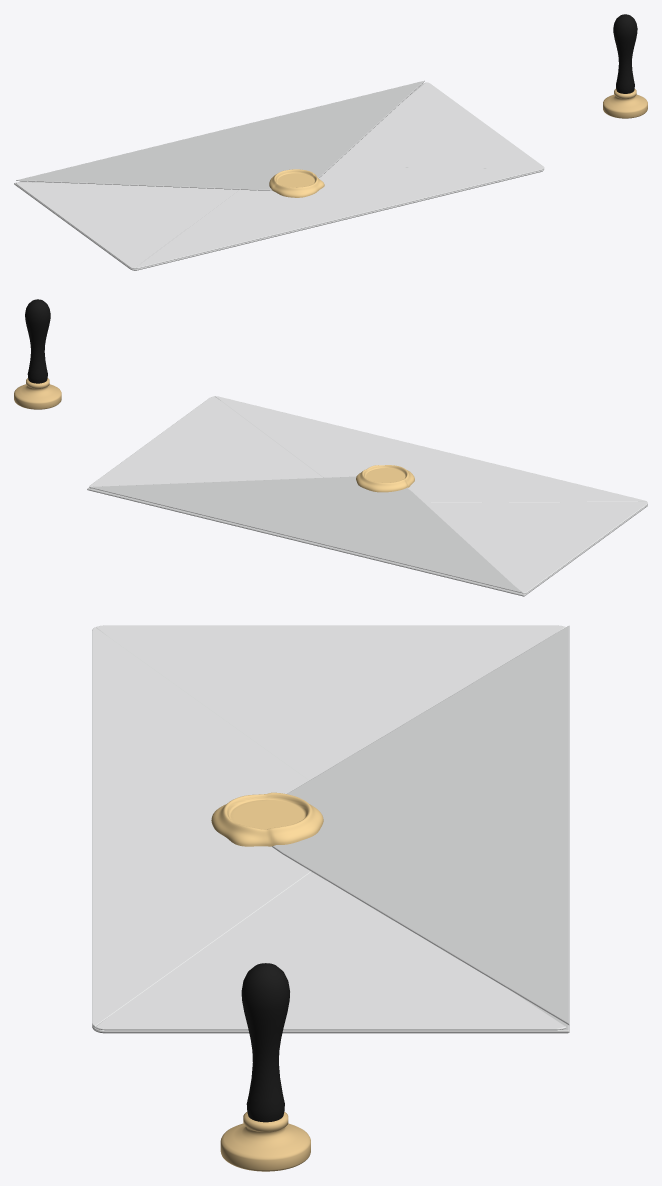
File: envelope.glb
3 views of the same model, one above another, from view 1: azimuth 30°, elevation 25°; view 2: azimuth 150°, elevation 25°; view 3: azimuth 270°, elevation 25° (orthographic). The views are drawn at different scales.
Visible parts, largest first — view 1: Envelope_Aba_Superior, Envelope_Aba_Inferior, Envelope_Aba_Esquerda, Envelope_Aba_Direita, Carimbo_Cabo, Envelope_Corpo, Selo_Cera, Carimbo_Cabeca; view 2: Envelope_Aba_Superior, Envelope_Aba_Inferior, Envelope_Aba_Esquerda, Envelope_Aba_Direita, Envelope_Corpo, Carimbo_Cabo, Selo_Cera, Carimbo_Cabeca; view 3: Envelope_Aba_Superior, Envelope_Aba_Inferior, Envelope_Aba_Esquerda, Envelope_Aba_Direita, Carimbo_Cabo, Selo_Cera, Carimbo_Cabeca, Envelope_Corpo.
Part boxes in pixels (x1,y1,x2,y2): Envelope_Aba_Superior: (16, 80, 424, 190); Envelope_Aba_Inferior: (134, 167, 543, 268); Envelope_Aba_Esquerda: (16, 182, 238, 268); Envelope_Aba_Direita: (331, 82, 544, 168); Carimbo_Cabo: (613, 14, 637, 93); Envelope_Corpo: (14, 83, 544, 270); Selo_Cera: (269, 169, 324, 197); Carimbo_Cabeca: (603, 89, 647, 118); Envelope_Aba_Superior: (89, 476, 521, 592); Envelope_Aba_Inferior: (215, 396, 646, 502); Envelope_Aba_Esquerda: (424, 502, 647, 593); Envelope_Aba_Direita: (89, 396, 322, 488); Envelope_Corpo: (87, 487, 647, 596); Carimbo_Cabo: (25, 299, 50, 383); Selo_Cera: (356, 465, 414, 492); Carimbo_Cabeca: (14, 378, 61, 409); Envelope_Aba_Superior: (272, 625, 569, 1025); Envelope_Aba_Inferior: (92, 627, 311, 1027); Envelope_Aba_Esquerda: (96, 625, 565, 780); Envelope_Aba_Direita: (95, 872, 566, 1030); Carimbo_Cabo: (241, 963, 289, 1122); Selo_Cera: (211, 792, 323, 846); Carimbo_Cabeca: (220, 1112, 310, 1171); Envelope_Corpo: (92, 994, 569, 1033).
Bounding box in the file's own units: 2.95 × 0.479 × 1.1.
